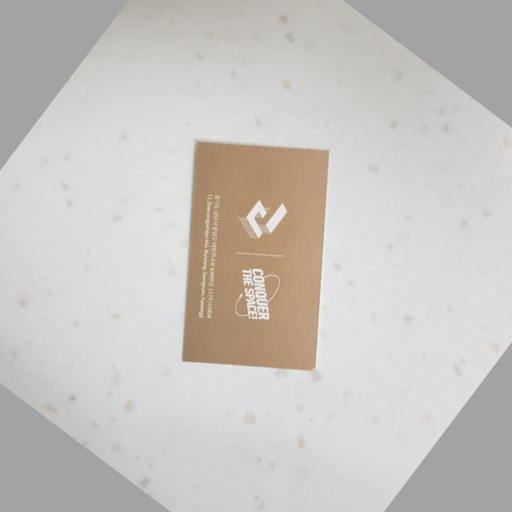Paper_2: (183, 138, 337, 386)
